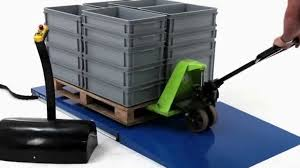Pallet Jack: (28, 32, 300, 135)
